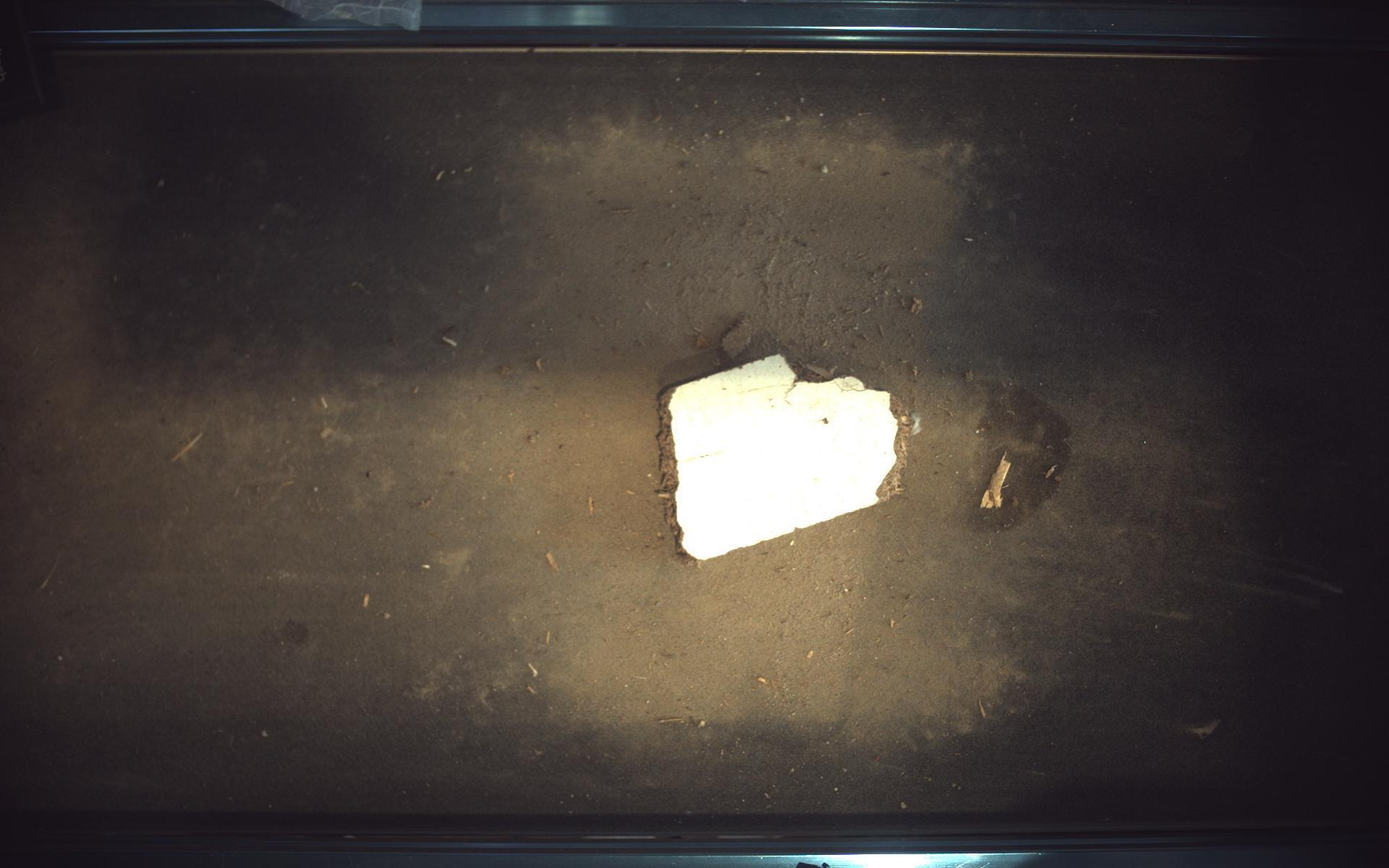wood: (660, 354, 914, 561)
